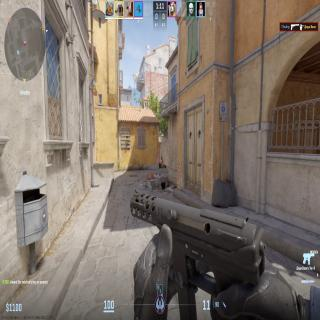T-Body: (160, 157, 163, 163)
T-Head: (161, 156, 163, 160)
